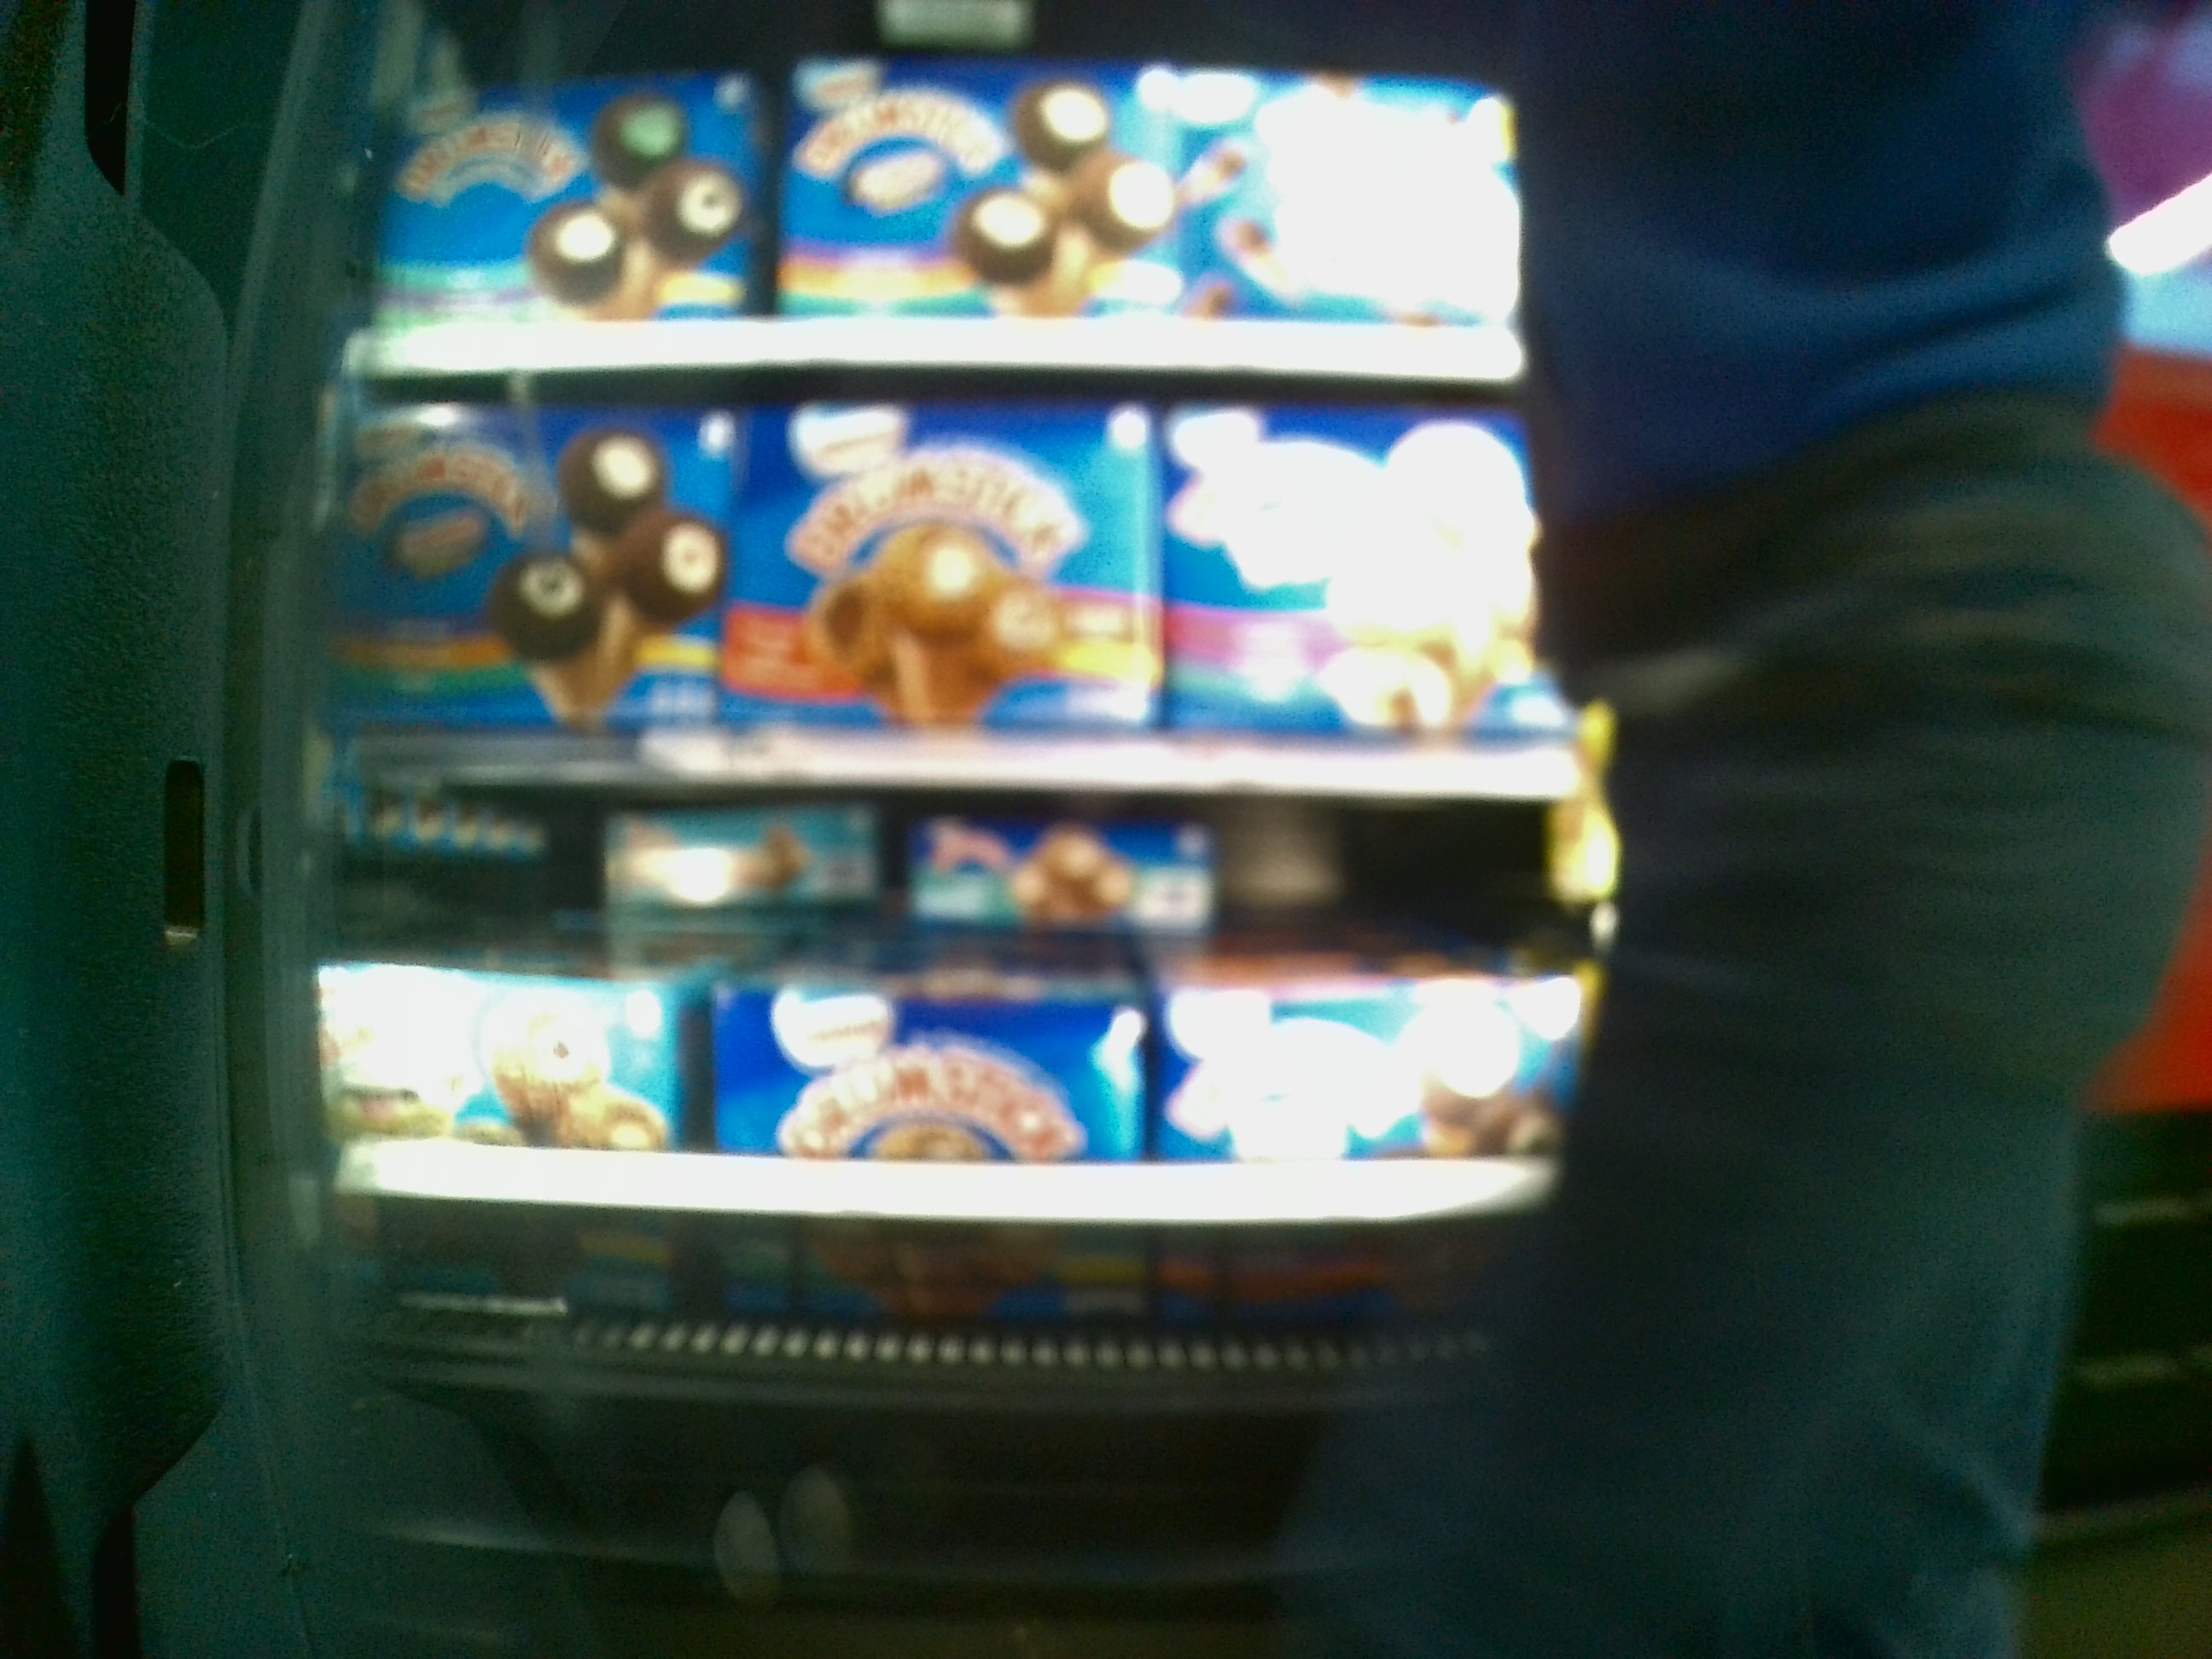shelf: (347, 814, 1501, 1326), (348, 355, 1550, 802)
